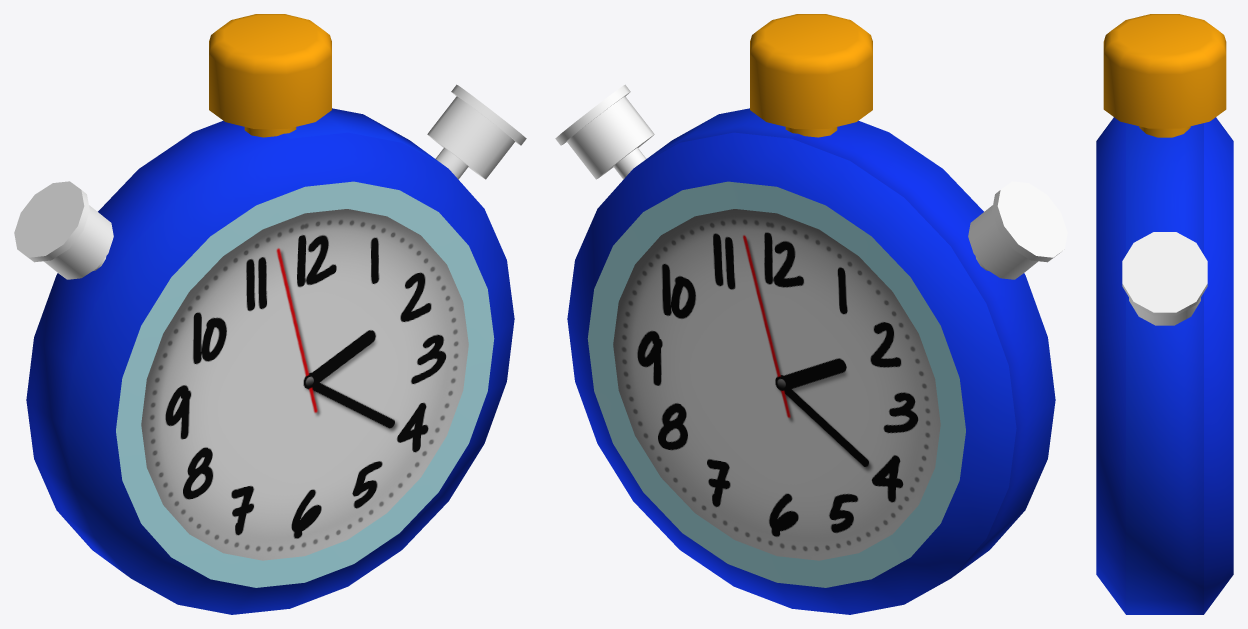
File: kronometre.fbx
3 views of the same model, side by side, from view 1: azimuth 30°, elevation 25°; view 2: azimuth 150°, elevation 25°; view 3: azimuth 270°, elevation 25° (orthographic).
Visible parts, largest first — view 1: kronometre; view 2: kronometre; view 3: kronometre.
Part boxes in pixels (box(x1,y1,x2,y2)): kronometre: box(14, 14, 526, 614); kronometre: box(555, 14, 1067, 614); kronometre: box(1096, 14, 1233, 614).
Bounding box in the file's own units: 459 × 495 × 111.
1 material, 1 textured.
